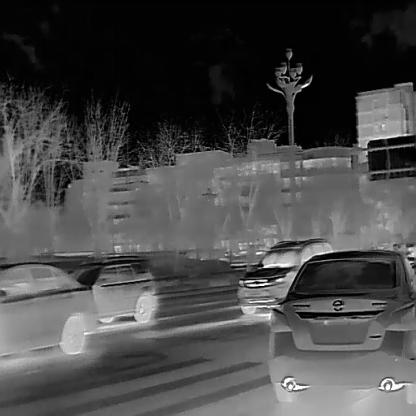car: (269, 250, 415, 406), (0, 259, 98, 357), (236, 237, 333, 314), (75, 253, 157, 324)
